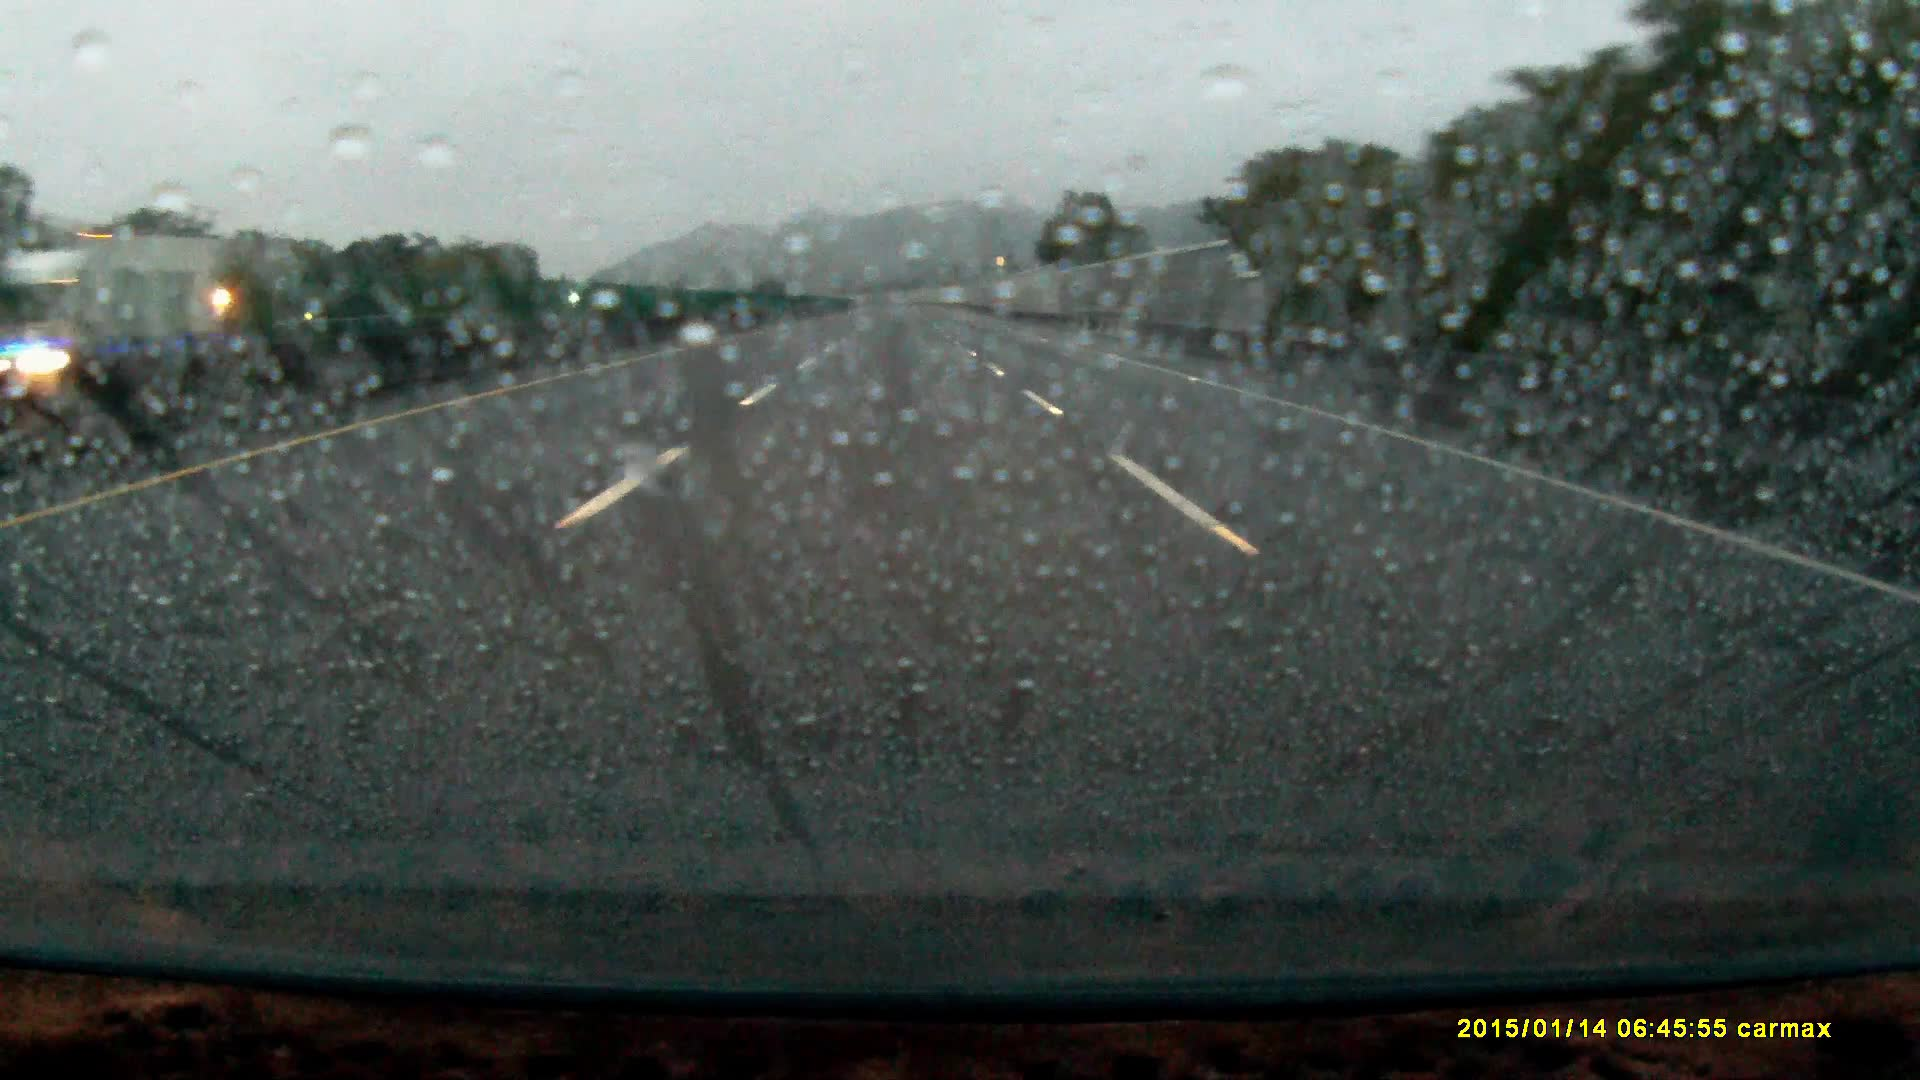vehicle: (15, 225, 237, 388)
